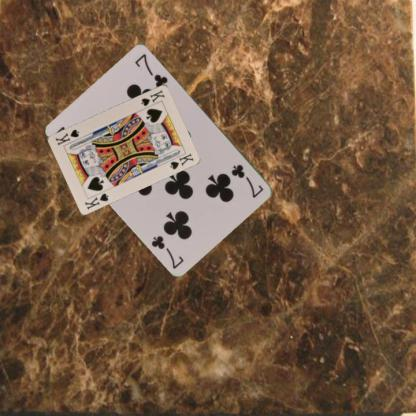7c: (229, 162, 265, 200)
Ks: (138, 87, 166, 107), (82, 191, 110, 210)
